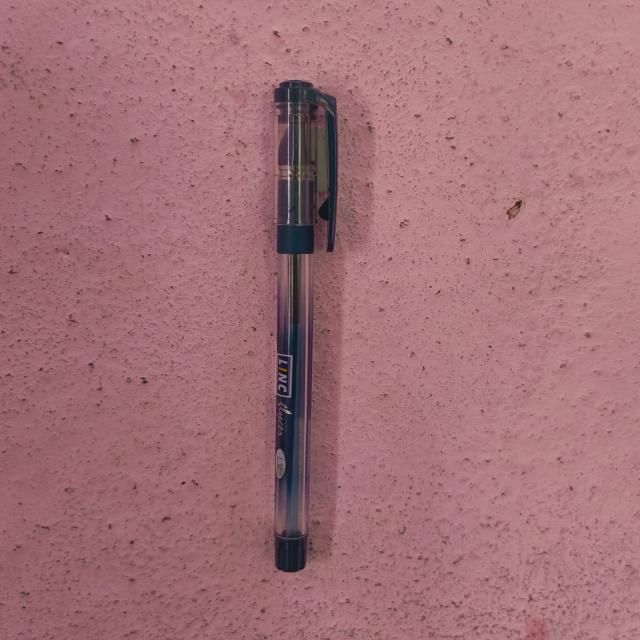blessing_card: (252, 73, 352, 582)
